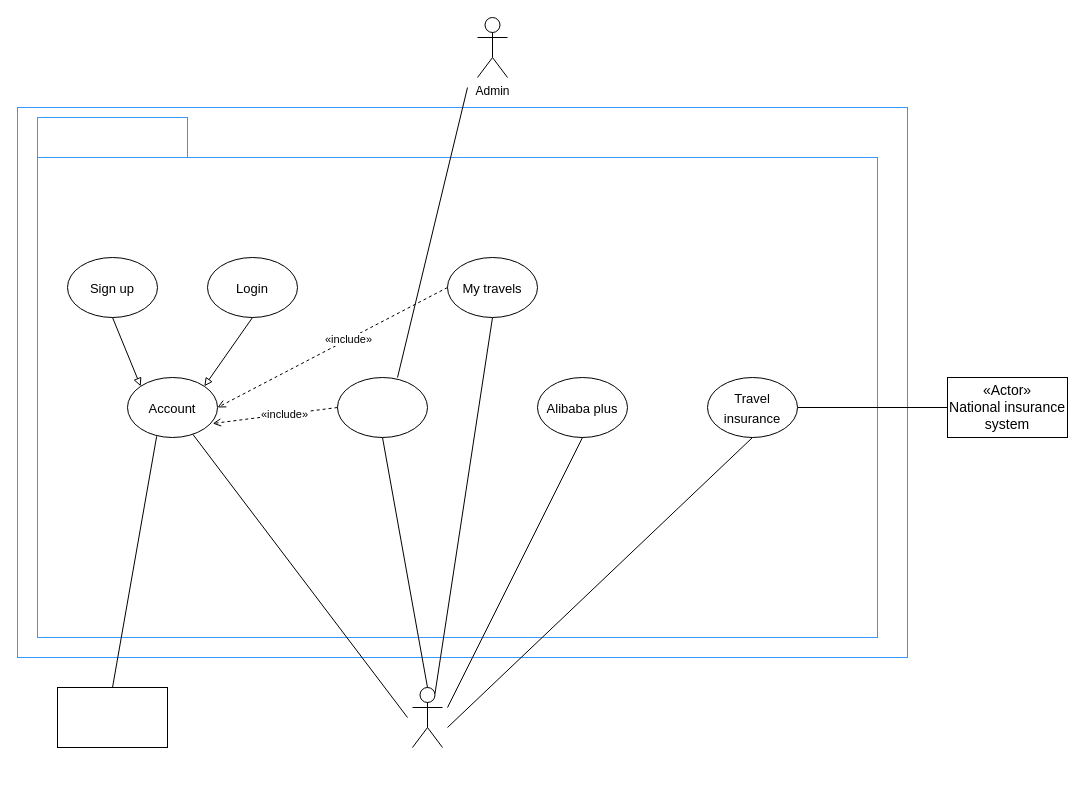
Image size: 1085x786. Some labels were removed from this diagram. Here are the shapes that lost their labels. From the top down, the centre of each, then its label:
At (112,137): "System services".
At (382,407): "Online support".
At (112,717): "«Actor» SMS system".
At (427,717): "User".
